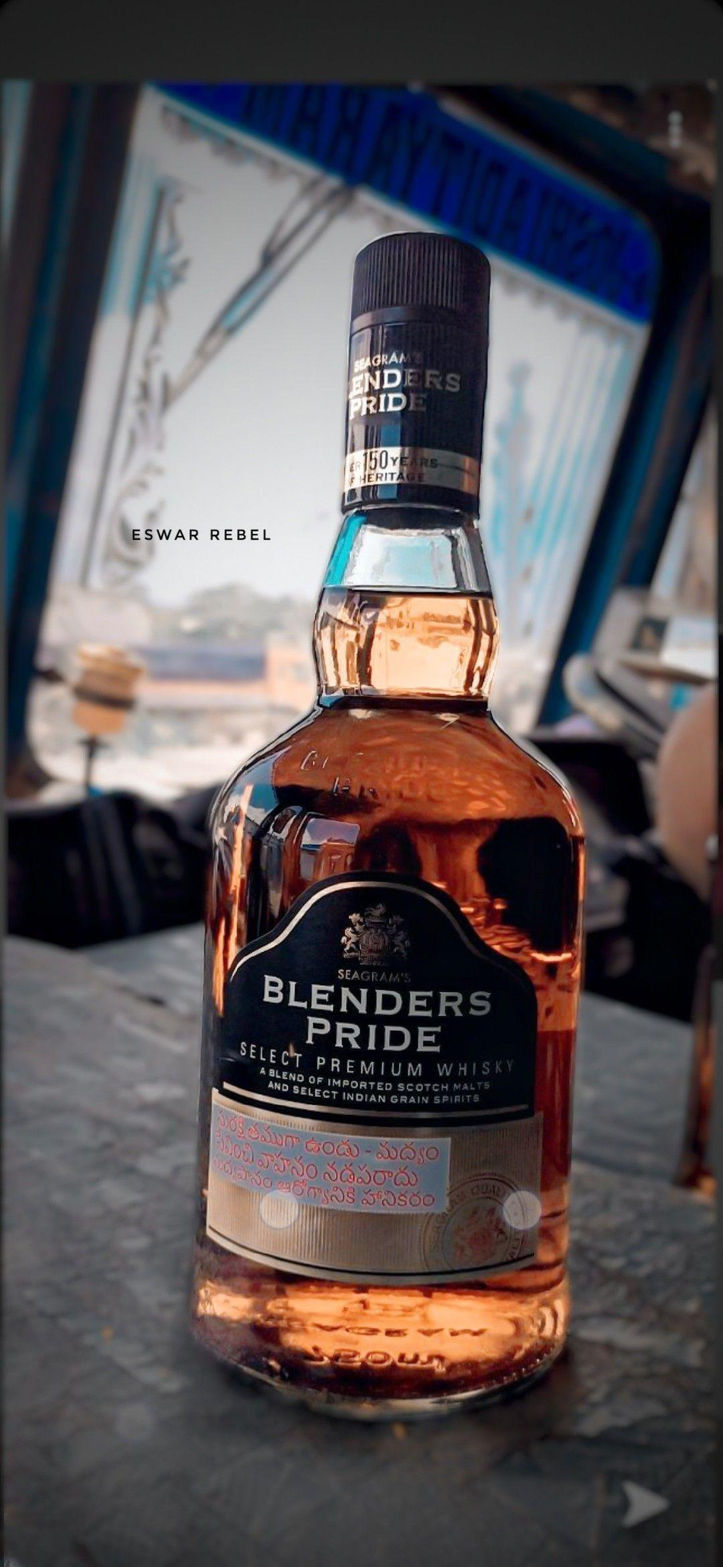bottle-glass: (172, 228, 602, 1425)
